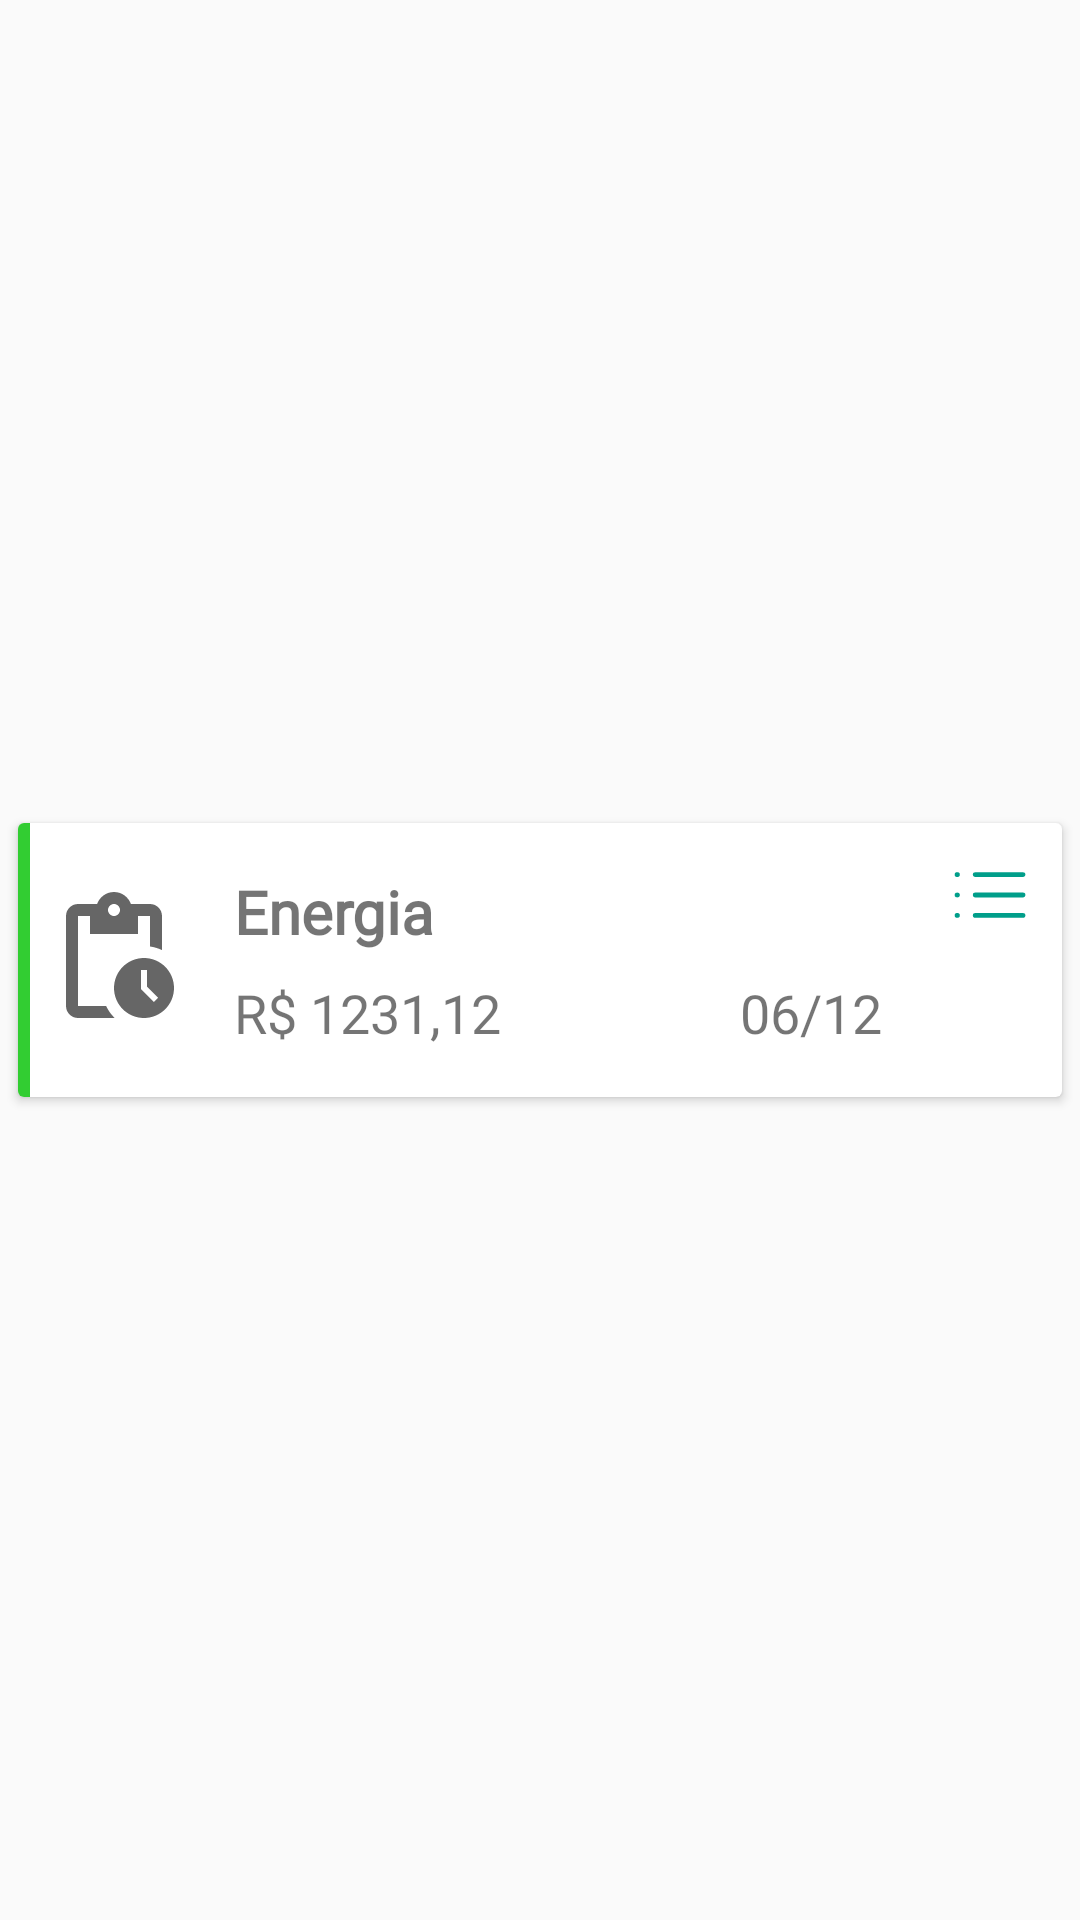

Point at icon controls on the screen. Image size 1080x1920, points as (x=x, y=y).
pending: (x=120, y=955)
